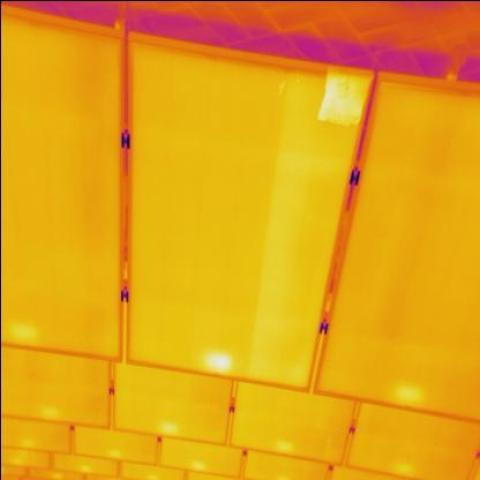fault: (323, 68, 361, 120), (206, 346, 231, 372)
